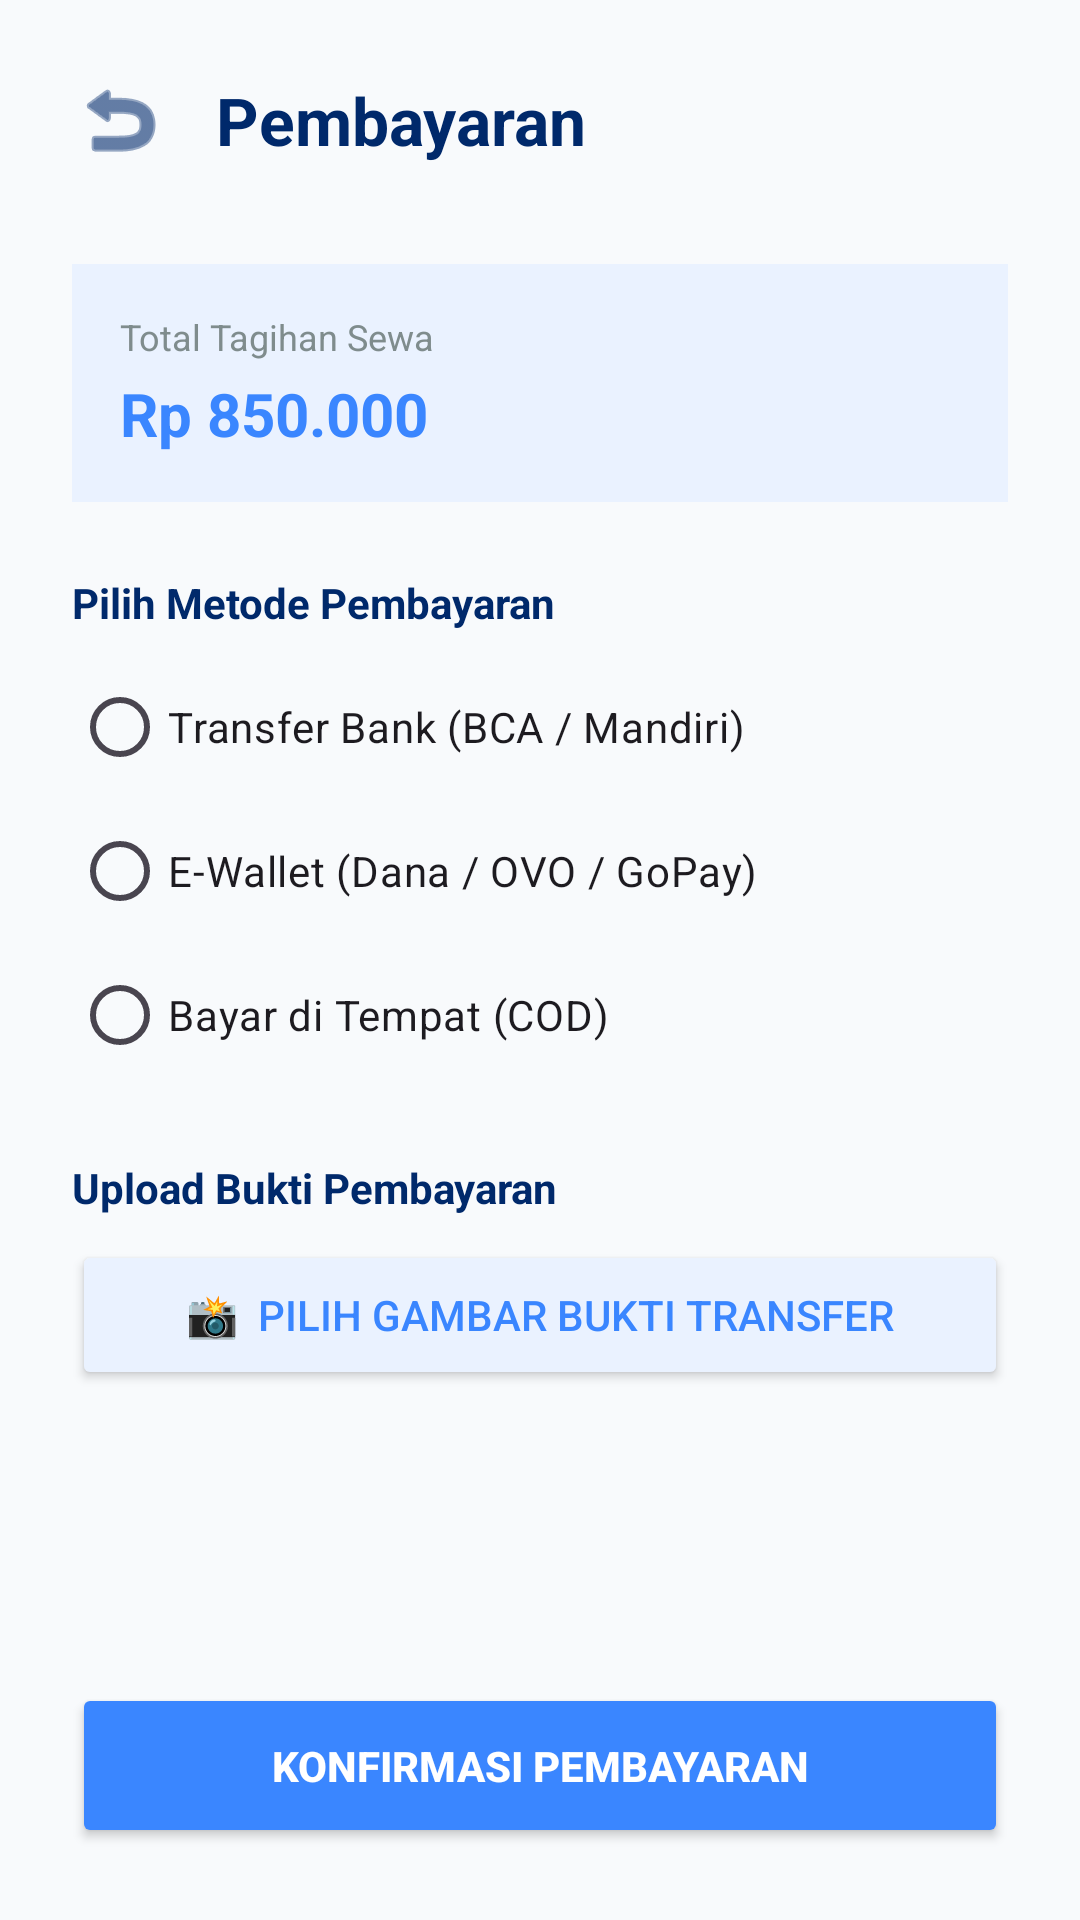

Icon click points for this 1080px×1920px phone screenshot, format (x=x, y=y):
revert: (x=121, y=120)
